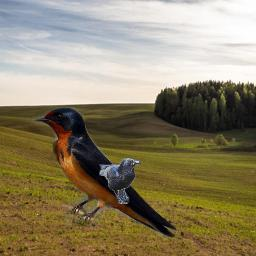Crow: (99, 158, 141, 204)
Swallow: (32, 107, 177, 241)
